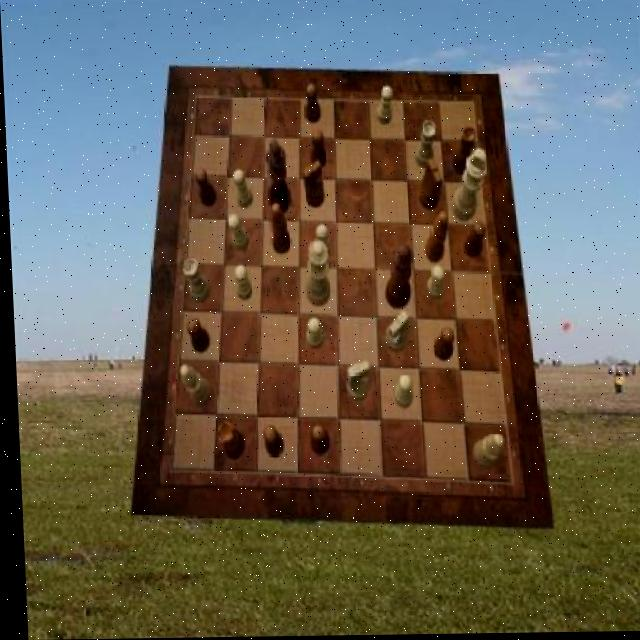bishop: (420, 213, 446, 266), (267, 204, 289, 257)
black-bishop: (264, 138, 289, 214)
black-king: (416, 160, 442, 212), (300, 163, 321, 210)
black-knight: (461, 224, 485, 260), (184, 319, 208, 354), (192, 168, 213, 207), (429, 330, 451, 363), (307, 132, 325, 170), (303, 84, 320, 124), (306, 425, 327, 457), (258, 428, 279, 460)
black-pawn: (380, 246, 413, 312)
black-queen: (449, 128, 476, 176), (212, 424, 241, 462)
black-rook: (176, 365, 208, 408), (467, 434, 500, 471)
white-bishop: (448, 150, 488, 224)
white-king: (380, 312, 406, 354), (341, 362, 367, 402)
white-knight: (225, 214, 246, 252), (232, 171, 252, 210), (373, 86, 392, 125), (423, 267, 443, 302), (391, 374, 410, 409), (232, 266, 250, 301), (310, 226, 328, 260), (303, 318, 322, 350)
white-pawn: (301, 241, 328, 307)
white-queen: (181, 259, 209, 305), (410, 123, 435, 171)
